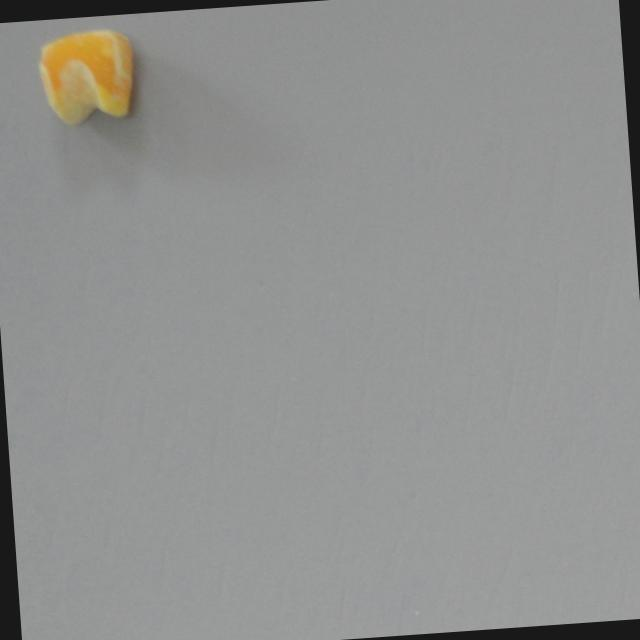pelicula: (35, 27, 137, 129)
